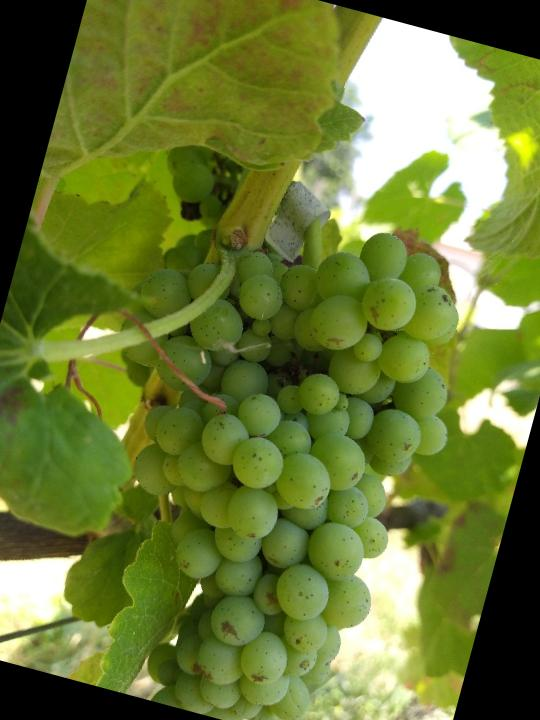grape: (28, 172, 496, 720)
